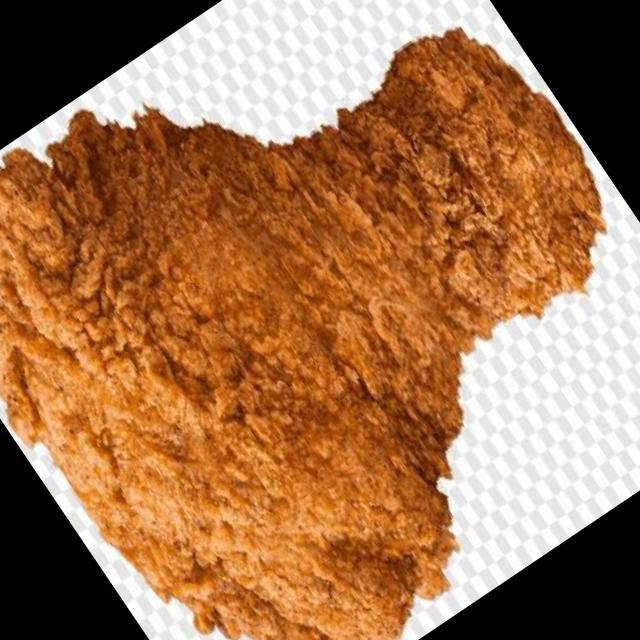Fried Chicken: (0, 23, 607, 640)
